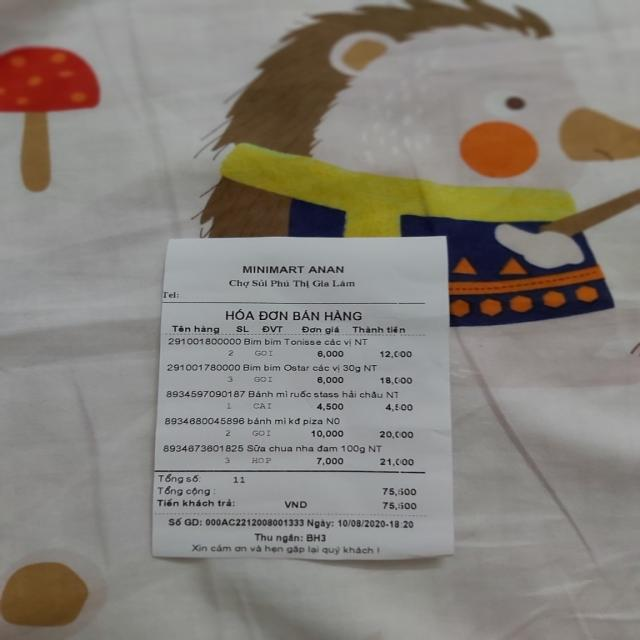Date: (337, 518, 387, 528)
Store_Name: (242, 263, 346, 276)
amount_number: (380, 485, 419, 497)
label_total: (155, 484, 212, 497)
